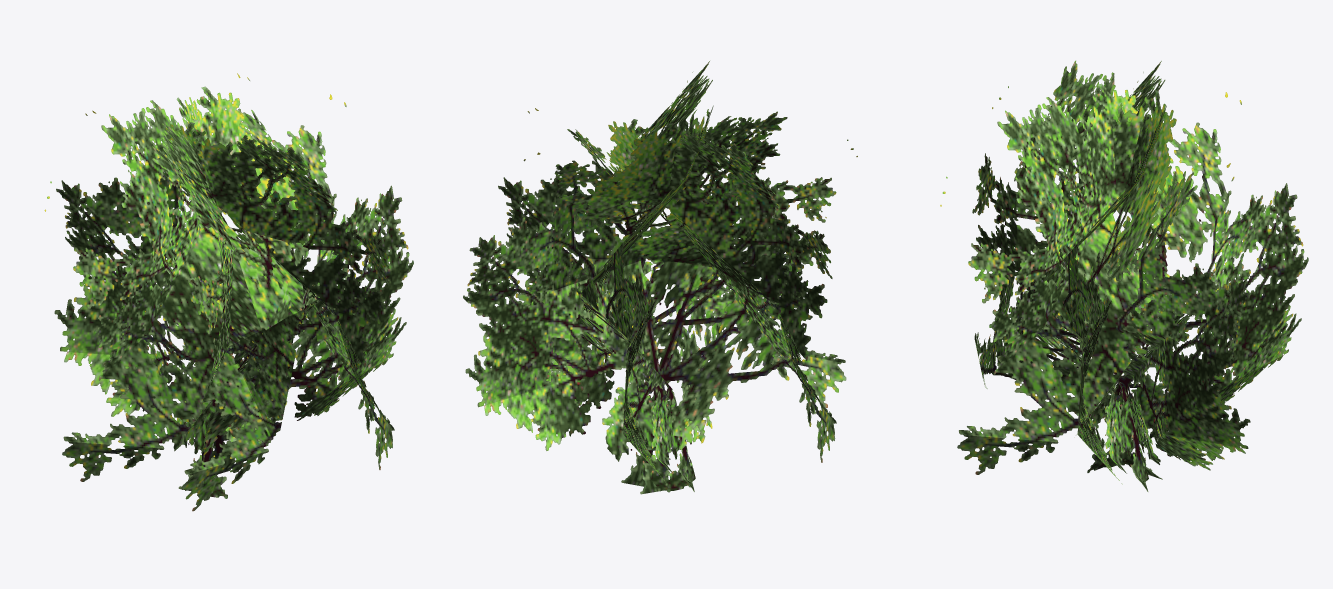
Rendered from bush.fbx.
3 views of the same model, side by side, from view 1: azimuth 30°, elevation 25°; view 2: azimuth 150°, elevation 25°; view 3: azimuth 270°, elevation 25° (orthographic).
Parts seen in each view (by area): view 1: bush; view 2: bush; view 3: bush.
Part boxes in pixels (box(x1,y1,x2,y2)): bush: box(44, 73, 413, 511); bush: box(463, 61, 857, 494); bush: box(940, 60, 1308, 491).
Size of the model in its own units: 338 by 338 by 327.
Materials: 1 (1 with a texture image).
